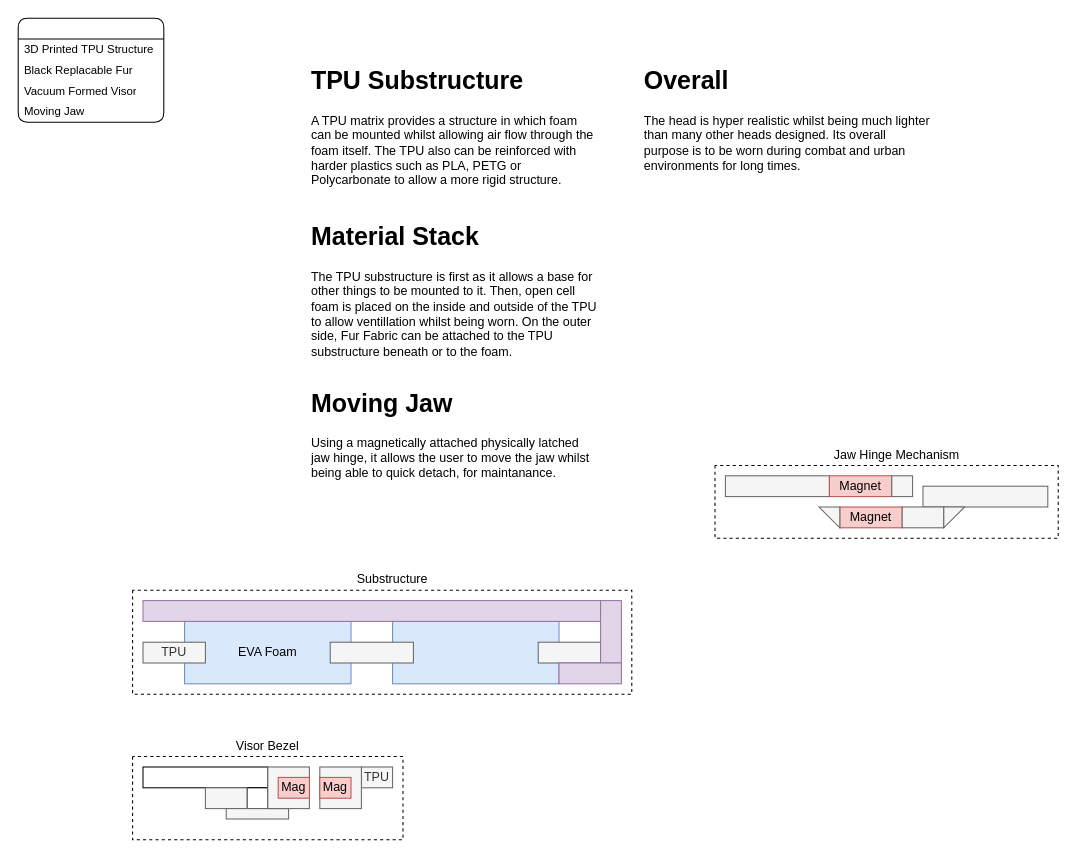
The diagram is 1077 pixels wide and 859 high, and some of its shapes have lost their labels. The box of each missing label's shape, as (x1, y1, x2, y2) in pixels:
Features: (17, 17, 164, 122)
Fur: (142, 600, 601, 621)
PC Vacuum Form: (142, 766, 268, 788)
PLA: (724, 475, 829, 497)
